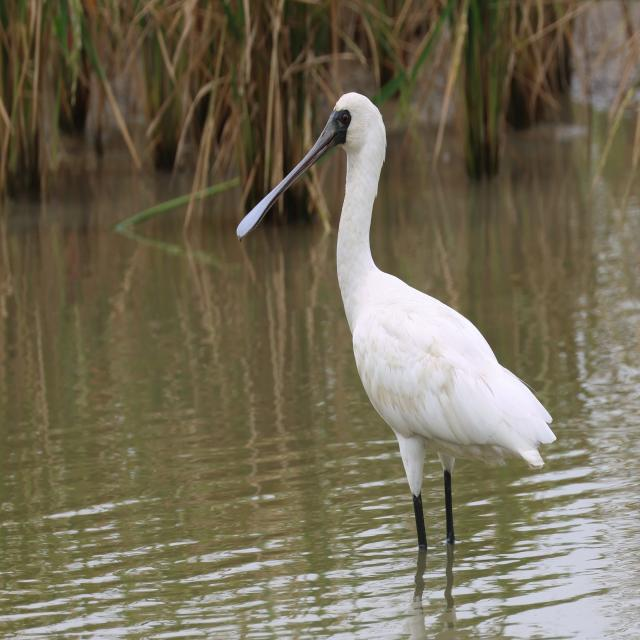Black-faced spoonbill: (238, 93, 555, 549)
